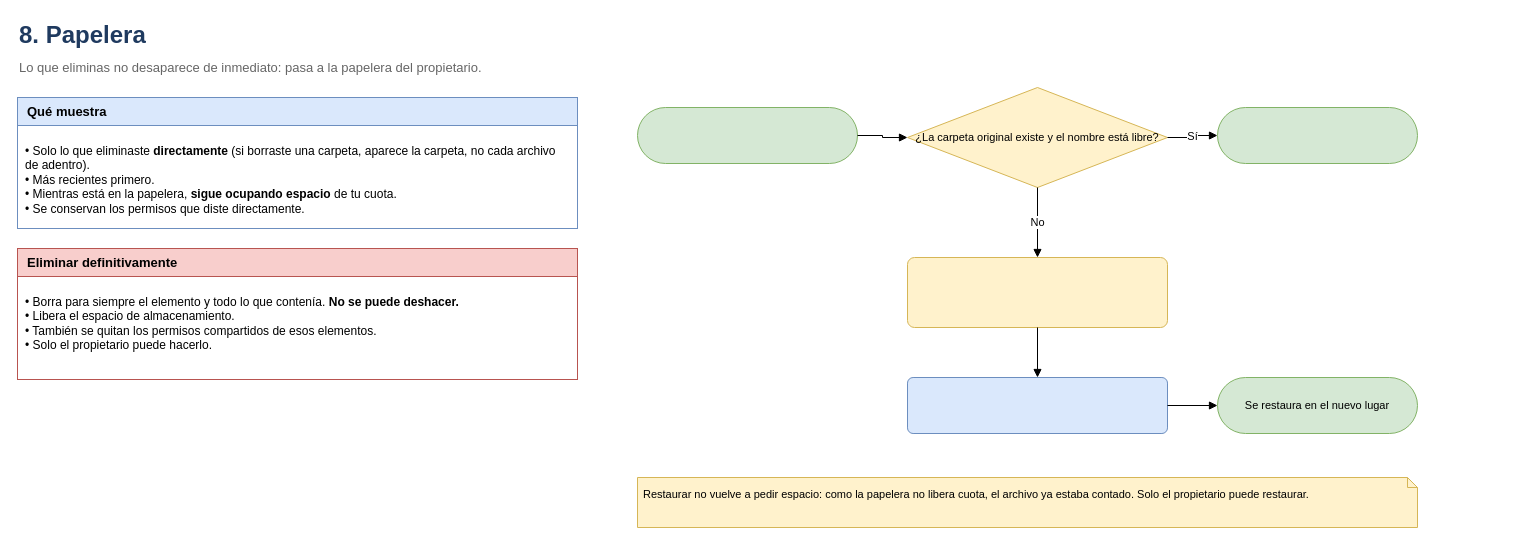
The diagram is 1535 pixels wide and 545 high, and some of its shapes have lost their labels. Each missing label, with the centre of its shape:
"El sistema te pide otra carpeta de destino o un nombre nuevo" goes at pixel 1037 292.
"Elegir «Restaurar»" goes at pixel 747 135.
"Eliges destino o nombre y confirmas" goes at pixel 1037 405.
"Se restaura en su lugar" goes at pixel 1317 135.
